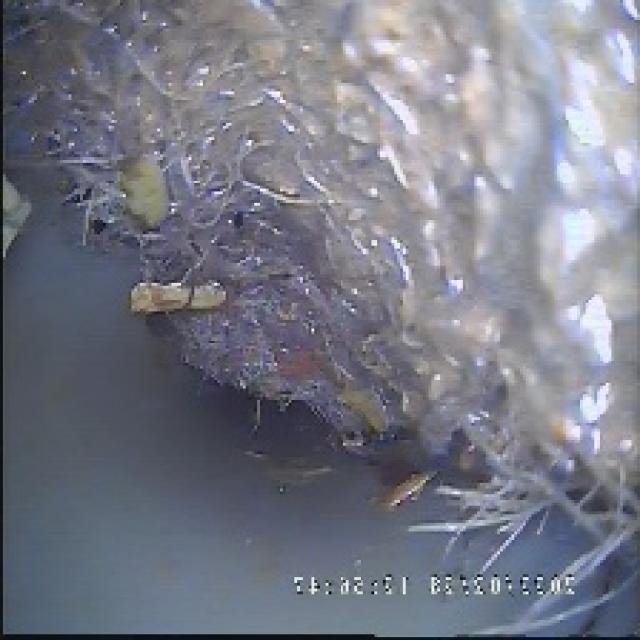sluge accumulation: (54, 26, 626, 551)
